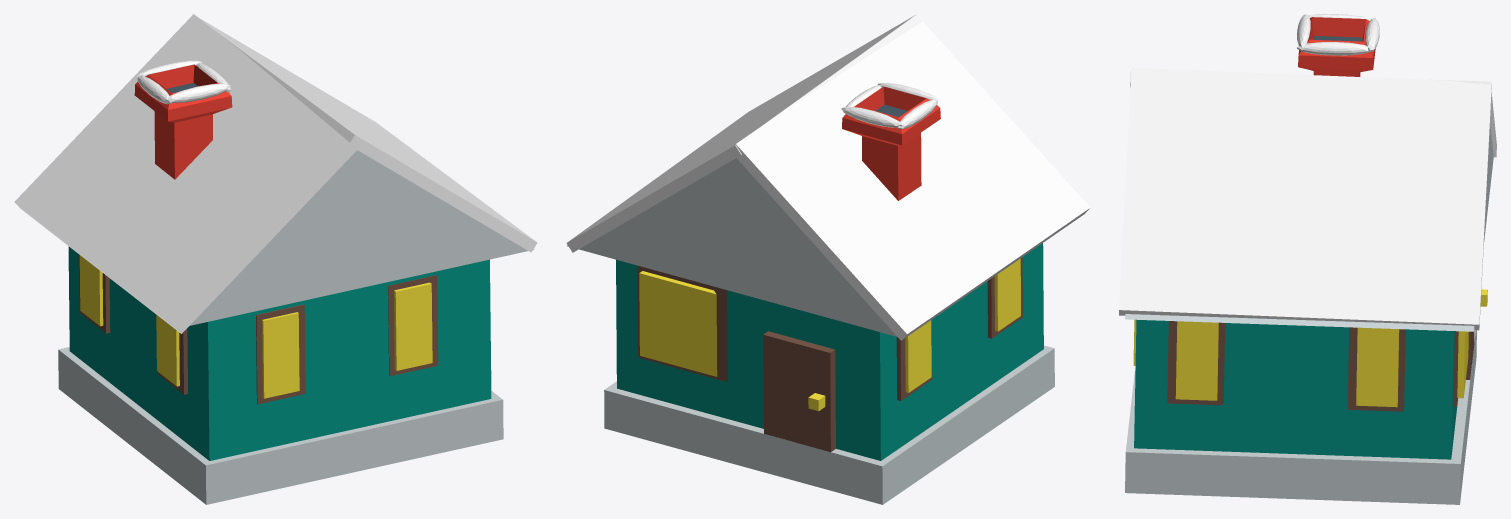
The model's file is casasnow2_lev5.glb.
The picture shows the model from 3 angles, left to right: view 1: azimuth 30°, elevation 25°; view 2: azimuth 150°, elevation 25°; view 3: azimuth 270°, elevation 25°; orthographic projection. The views are drawn at different scales.
Parts seen in each view (by area): view 1: casasnow2_lev5; view 2: casasnow2_lev5; view 3: casasnow2_lev5.
Boxes of the visible parts, x1=… form: casasnow2_lev5: x1=14, y1=14, x2=537, y2=504; casasnow2_lev5: x1=566, y1=14, x2=1090, y2=504; casasnow2_lev5: x1=1119, y1=14, x2=1496, y2=504.
Bounding box in the file's own units: 18.21 × 16.47 × 15.56.
